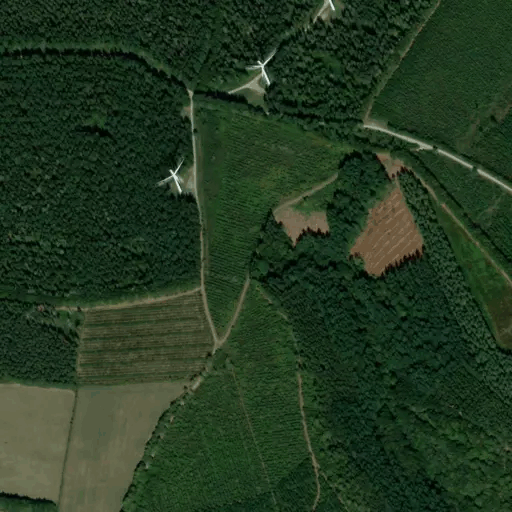wt: (156, 158, 188, 198), (250, 53, 274, 82), (323, 1, 343, 13)
